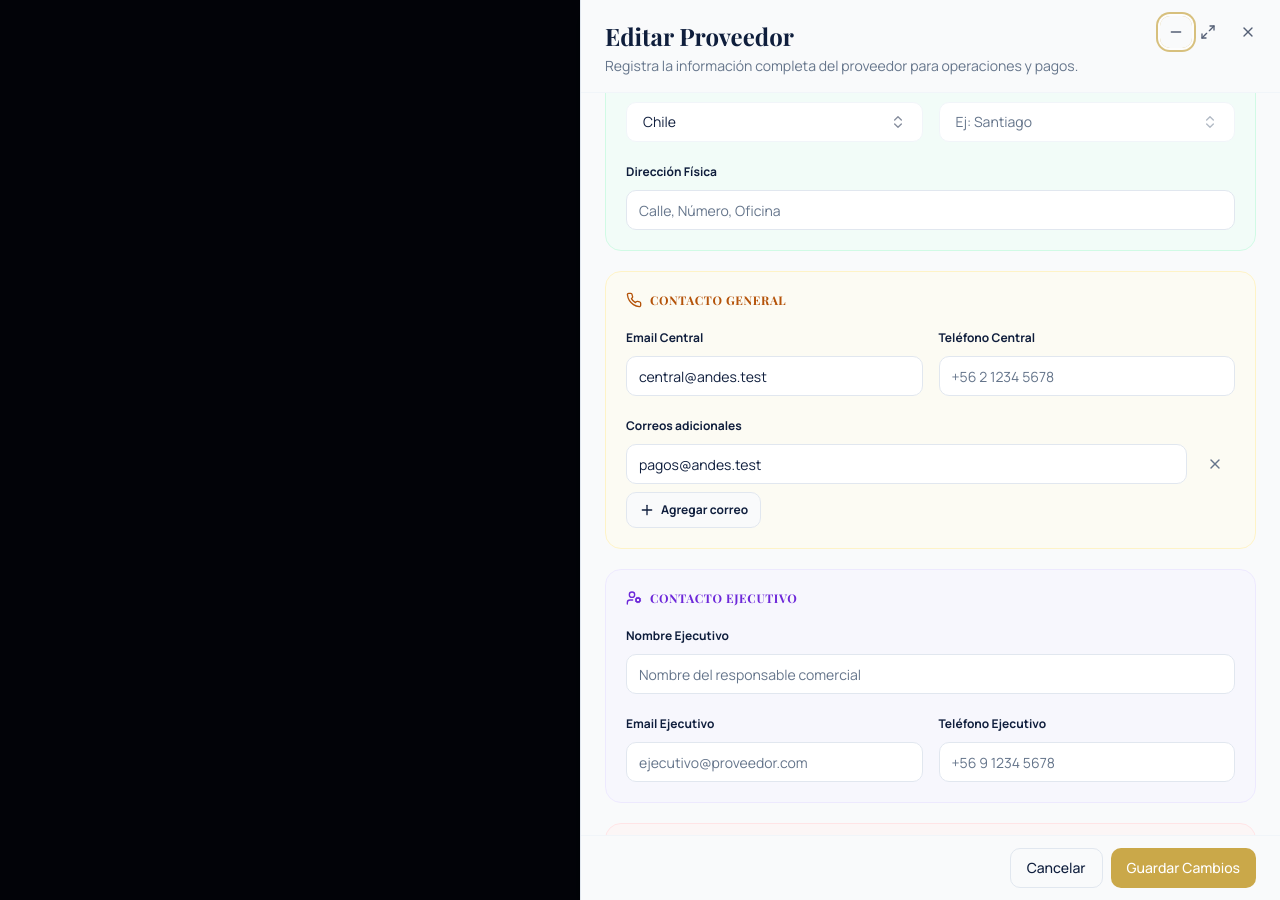
Scenario: ProviderFormDialog: correos adicionales › un correo adicional mal escrito frena el guardado
The image size is (1280, 900).
(page scrolled)
Replace the text in the field named "Correo adicional 1" with "malo" at [906, 464], box [626,444,1187,484]
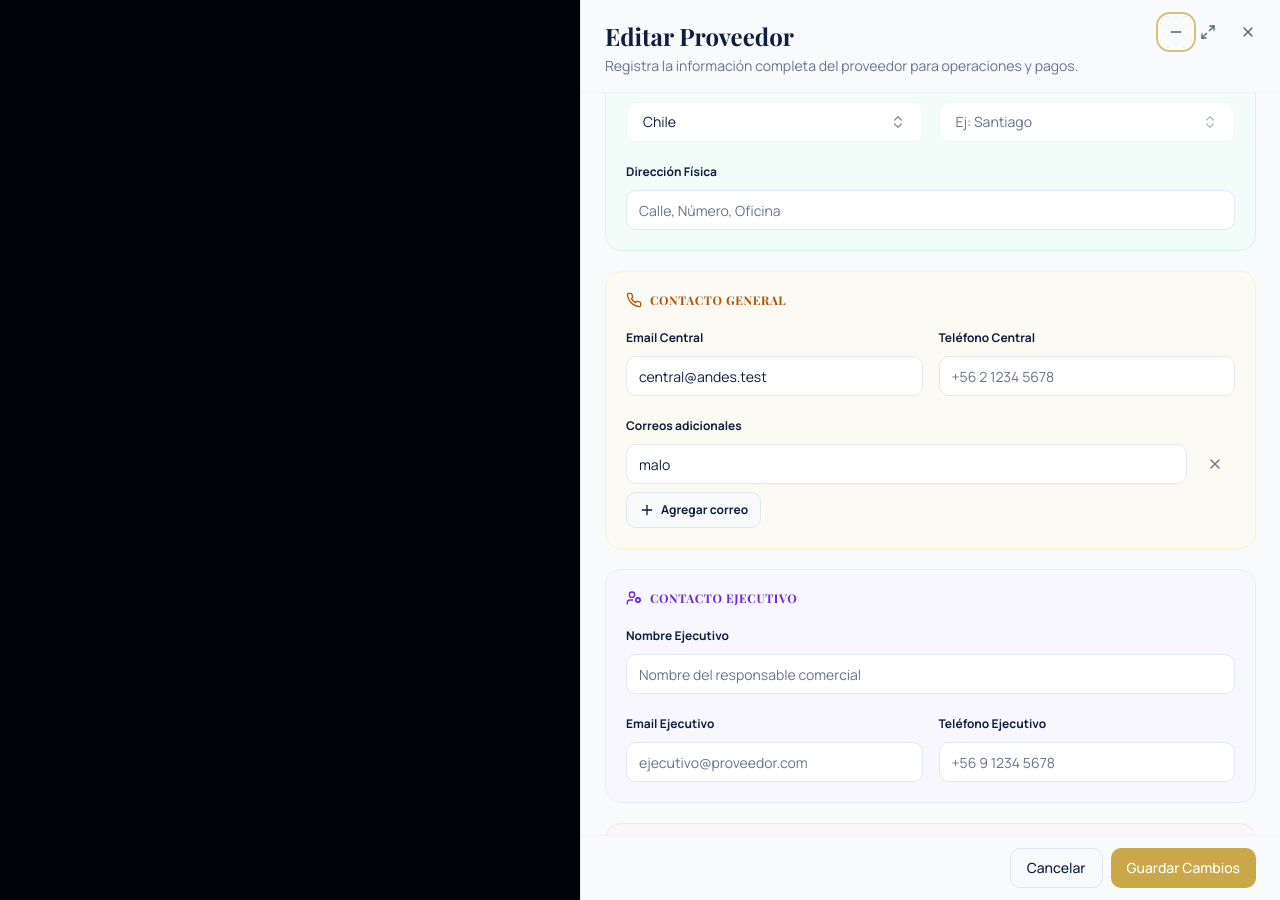
Click the button "Guardar Cambios" at [1183, 868], box [1110,848,1256,888]
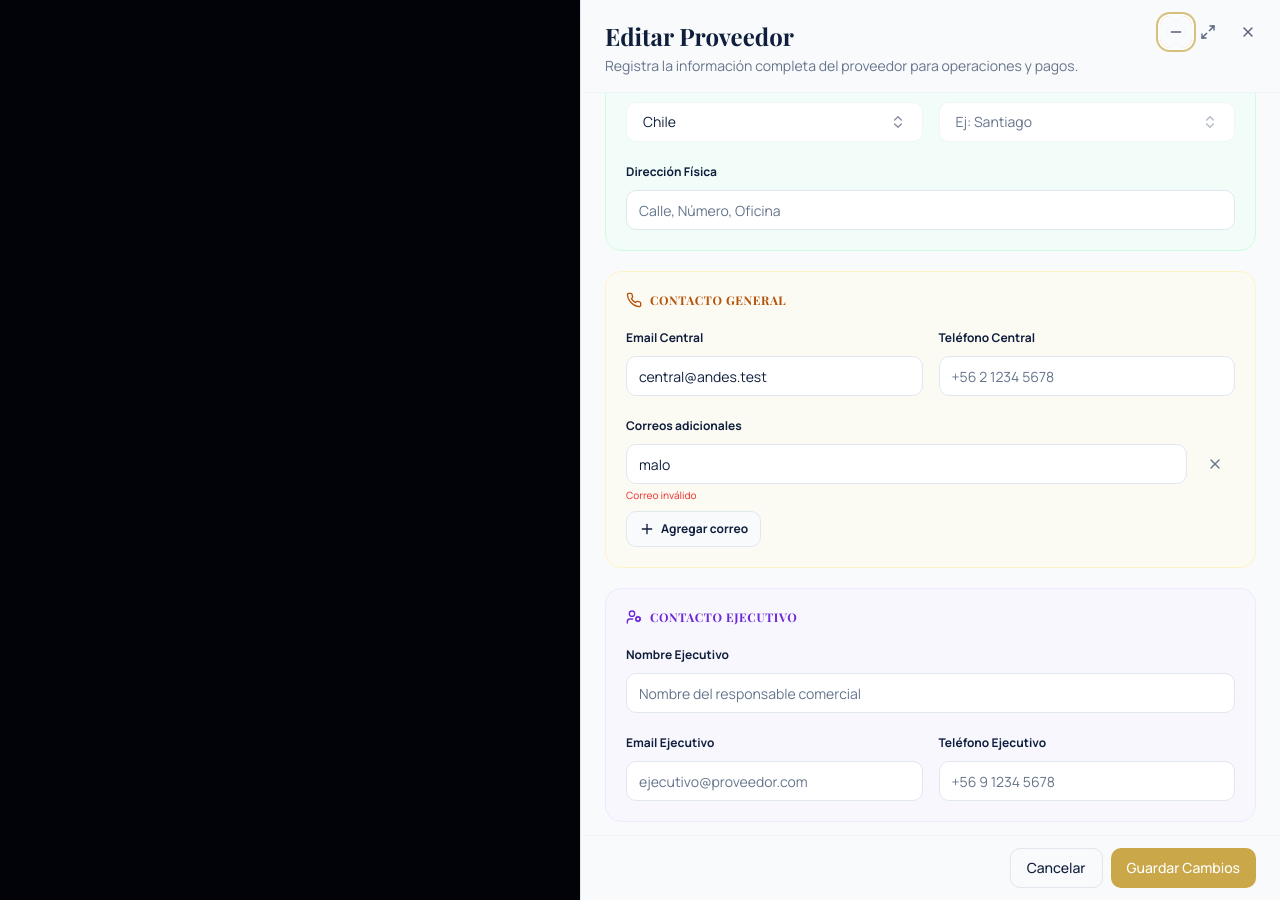
Expected: the text "Correo inválido" is shown, [626,488,697,502]
